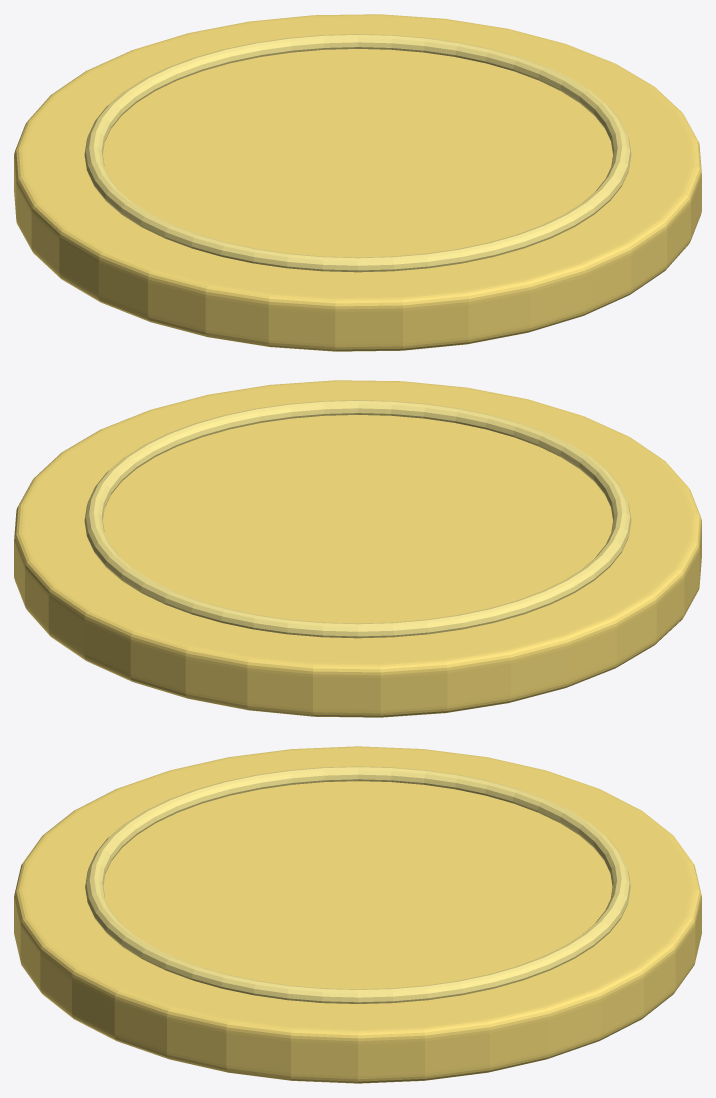
The model's file is coin.glb.
3 renders of one model, top to bottom at view 1: azimuth 30°, elevation 25°; view 2: azimuth 150°, elevation 25°; view 3: azimuth 270°, elevation 25°, orthographic.
Parts seen in each view (by area): view 1: Cylinder, Torus; view 2: Cylinder, Torus; view 3: Cylinder, Torus.
Part boxes in pixels (x1=…): Cylinder: x1=14, y1=14, x2=701, y2=351; Torus: x1=84, y1=34, x2=631, y2=272; Cylinder: x1=14, y1=380, x2=701, y2=717; Torus: x1=84, y1=400, x2=631, y2=638; Cylinder: x1=14, y1=746, x2=701, y2=1083; Torus: x1=85, y1=766, x2=630, y2=1003.
Bounding box in the file's own units: 3 × 0.3 × 3.
